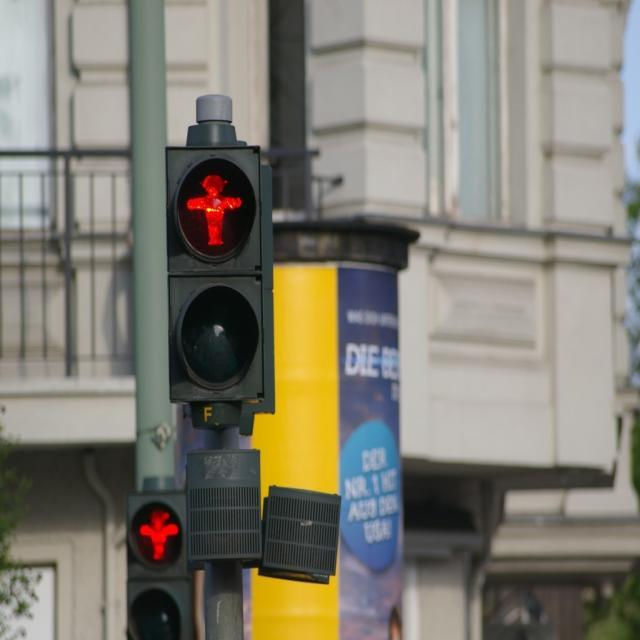traffic light: (168, 146, 267, 401)
